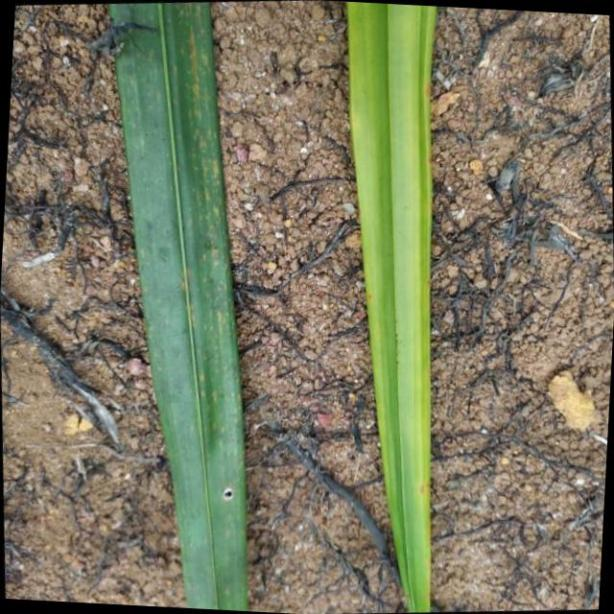nitrogen: (113, 1, 249, 614), (349, 0, 438, 614)
